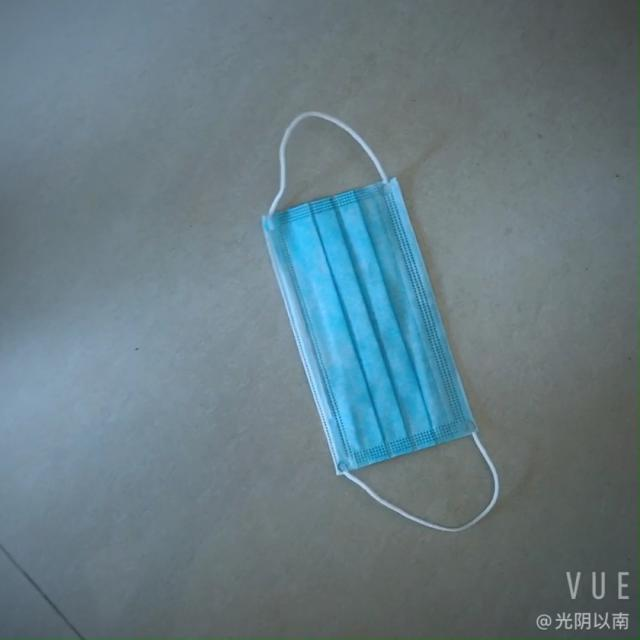non-organic waste: (254, 171, 476, 485)
